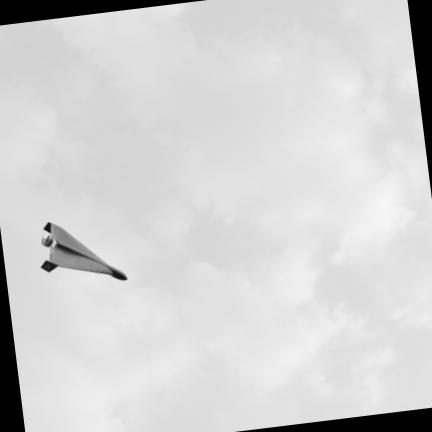Shahed: (41, 222, 126, 279)
